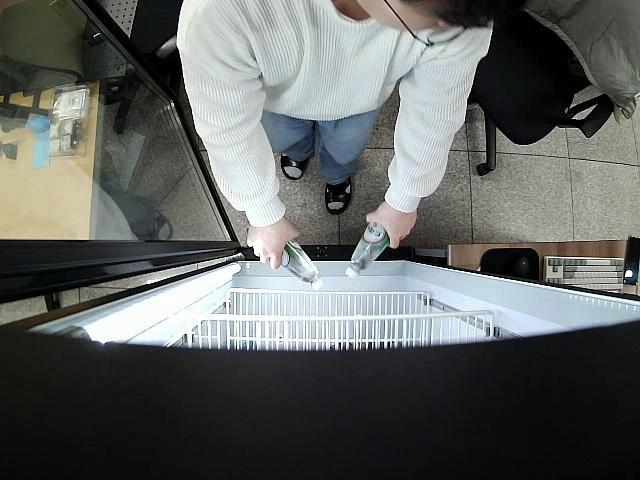18_trevi: (246, 223, 324, 292), (346, 220, 390, 278)
